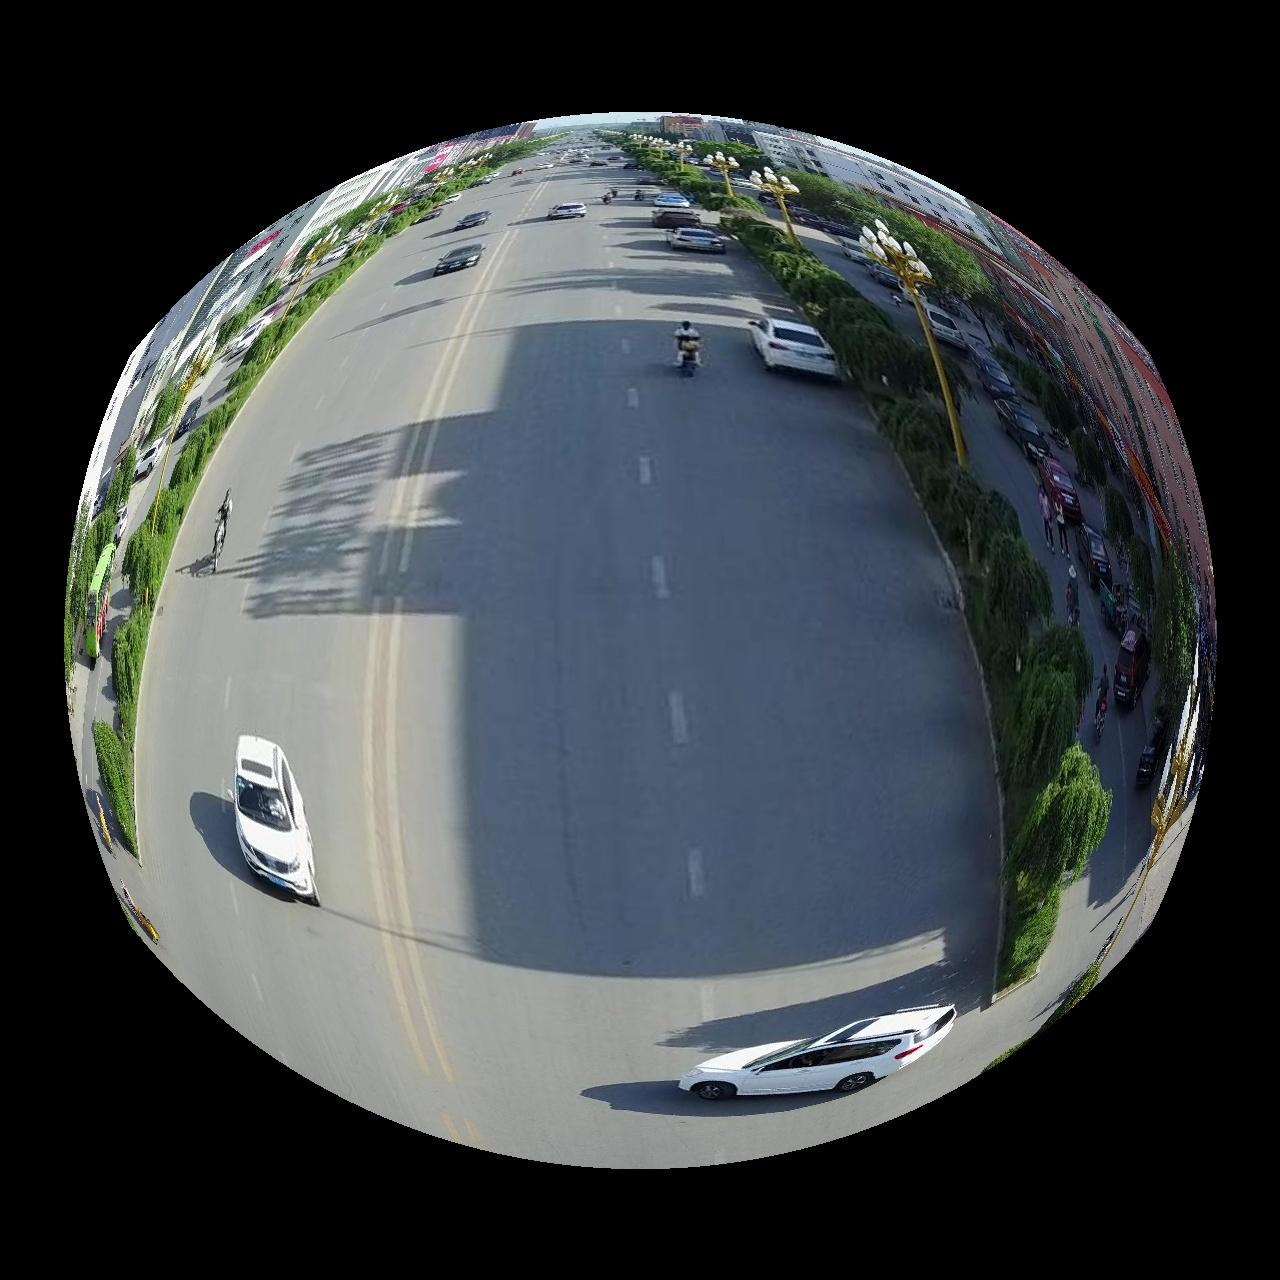cars: (681, 1006, 958, 1102), (229, 736, 319, 906), (751, 316, 842, 379), (433, 241, 485, 274), (667, 226, 727, 252), (653, 207, 701, 227), (454, 209, 491, 229), (547, 202, 587, 218), (654, 191, 692, 206)
trees: (726, 218, 1114, 992), (91, 205, 418, 857), (788, 170, 1001, 309)
